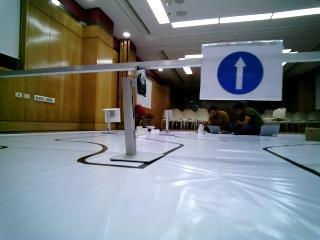straight: (200, 42, 286, 100)
